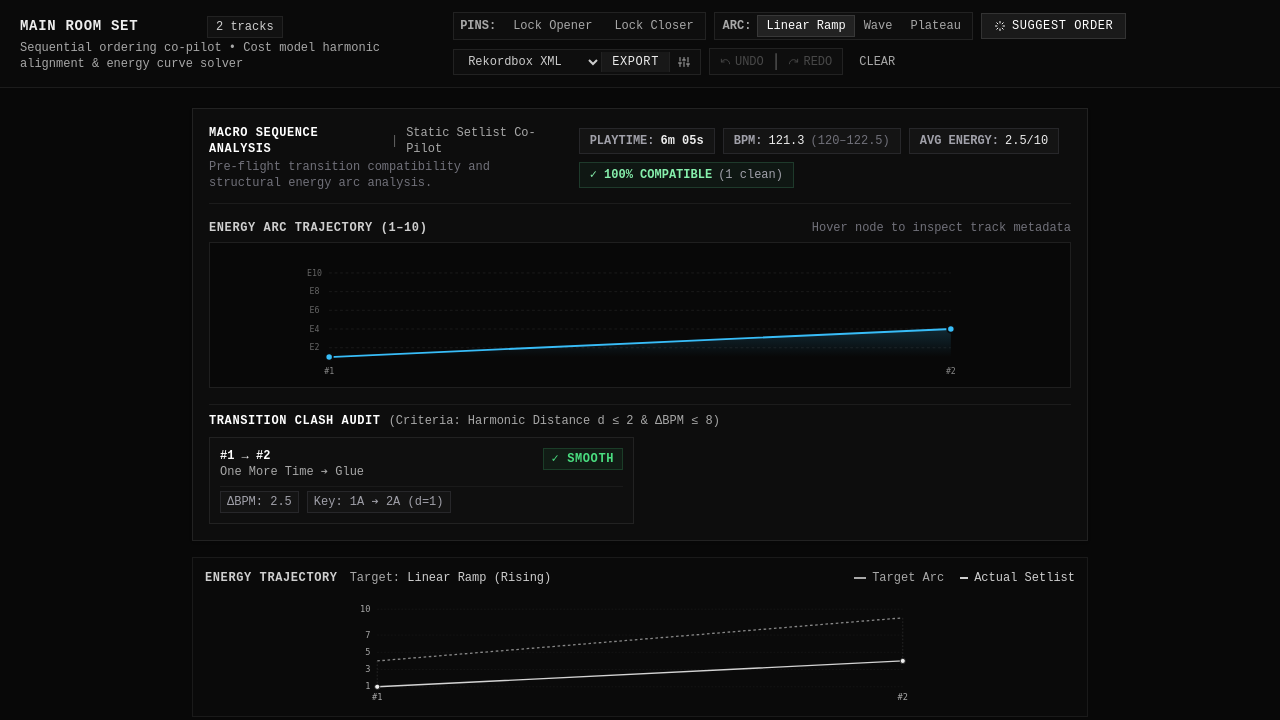
Test: Export Safety & Structured Result Regression Tests › allows opening export modal, specifying custom destination, and cancelling without export
Open export options modal
What coordinates should you click on to do the following:
click the button named "Export options"
I would click on:
 (684, 62)
Its box is x1=669 y1=52 x2=698 y2=72.
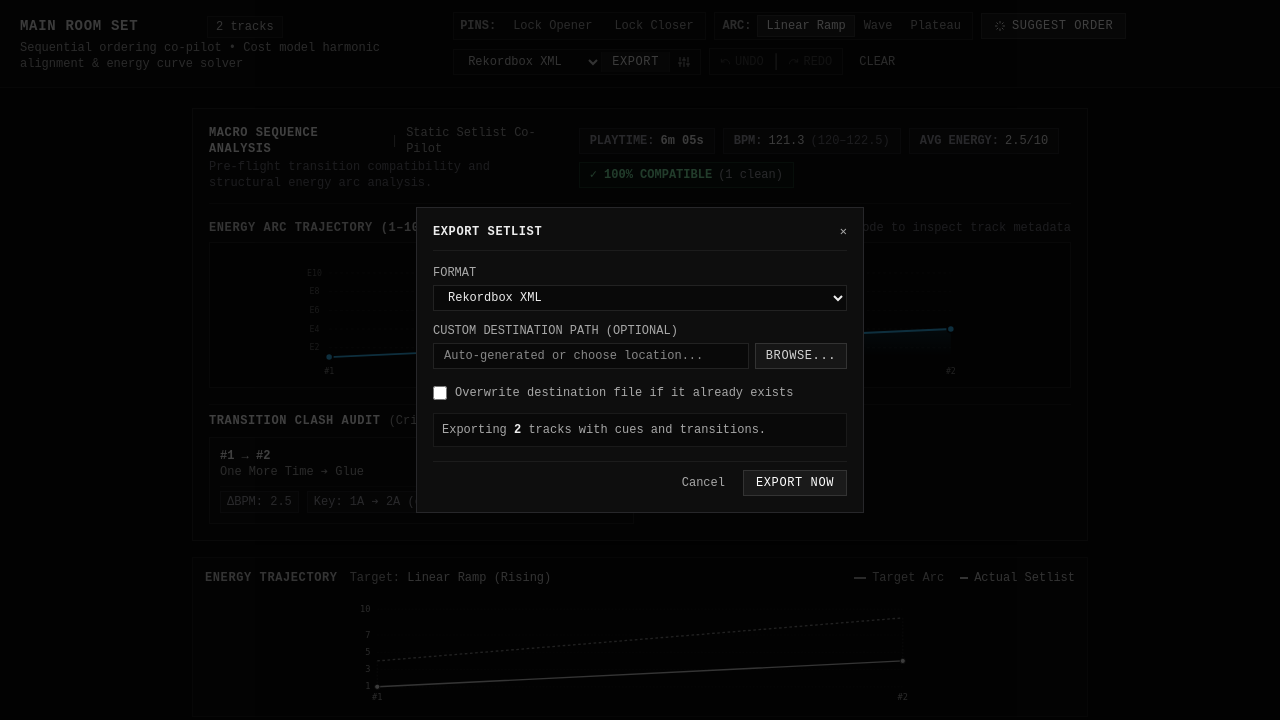
Result: the heading "Export Setlist" is shown at x1=433 y1=224 x2=542 y2=240
Result: the field labelled "Custom Destination Path (optional)" is shown at x1=433 y1=343 x2=749 y2=369
Click Cancel
What coordinates should you click on to do the following:
click the button "Cancel"
I would click on:
 (703, 483)
Its box is x1=672 y1=471 x2=735 y2=495.
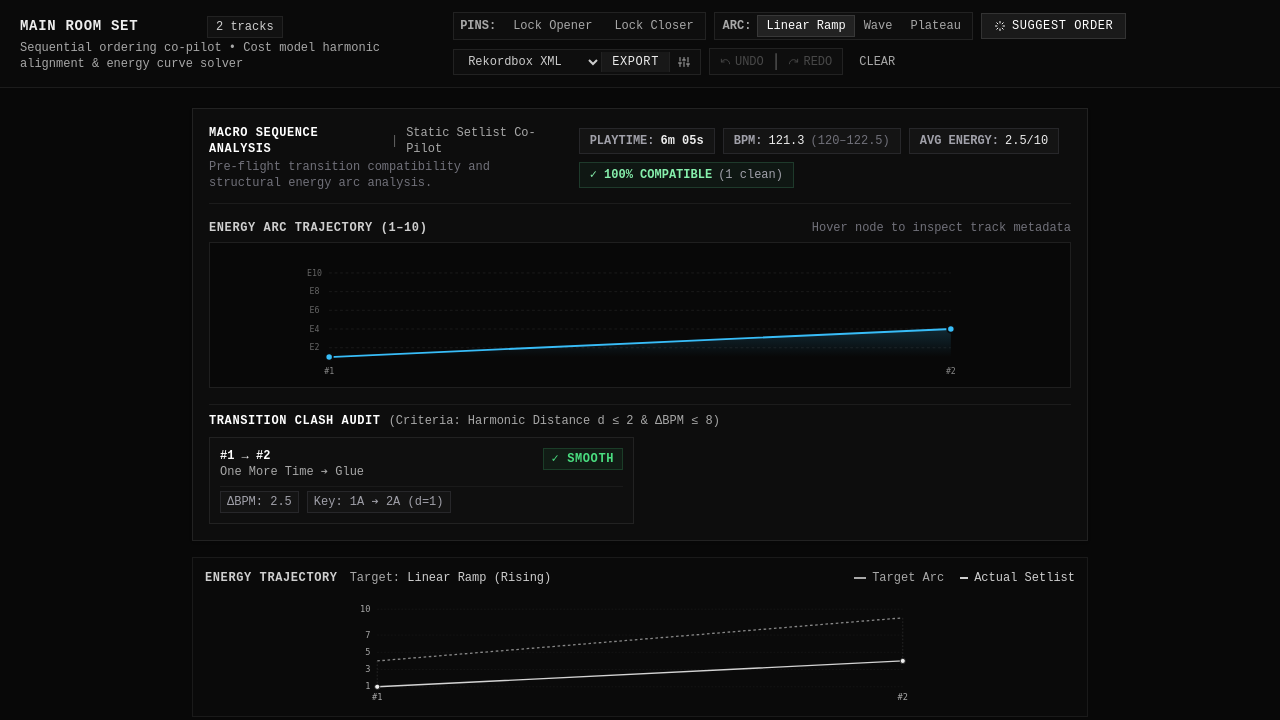
Result: the heading "Export Setlist" is gone
